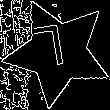L_S: (38, 25, 77, 79)
